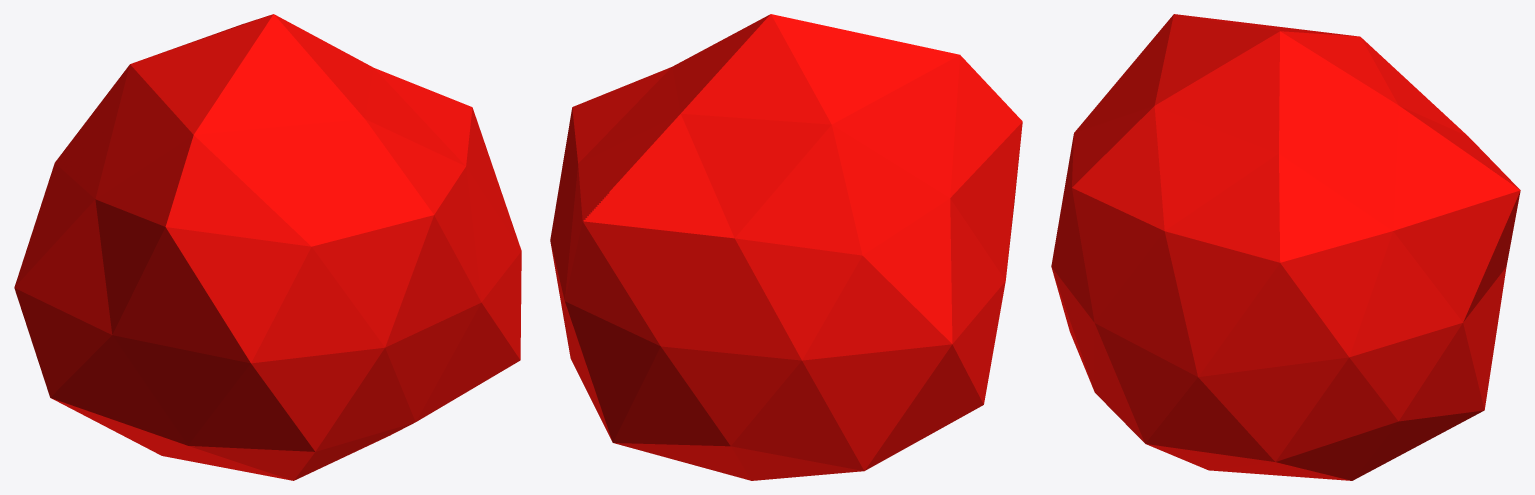
File: explosao.obj
3 renders of one model, left to right at view 1: azimuth 30°, elevation 25°; view 2: azimuth 150°, elevation 25°; view 3: azimuth 270°, elevation 25°, orthographic. The views are drawn at different scales.
Parts seen in each view (by area): view 1: Esfera_icosaédrica; view 2: Esfera_icosaédrica; view 3: Esfera_icosaédrica.
Part boxes in pixels (bbox=[...]): Esfera_icosaédrica: bbox=[14, 14, 521, 480]; Esfera_icosaédrica: bbox=[550, 14, 1022, 480]; Esfera_icosaédrica: bbox=[1051, 14, 1520, 480].
Size of the model in its own units: 1.07 by 1.06 by 1.05.
1 material, 1 textured.
